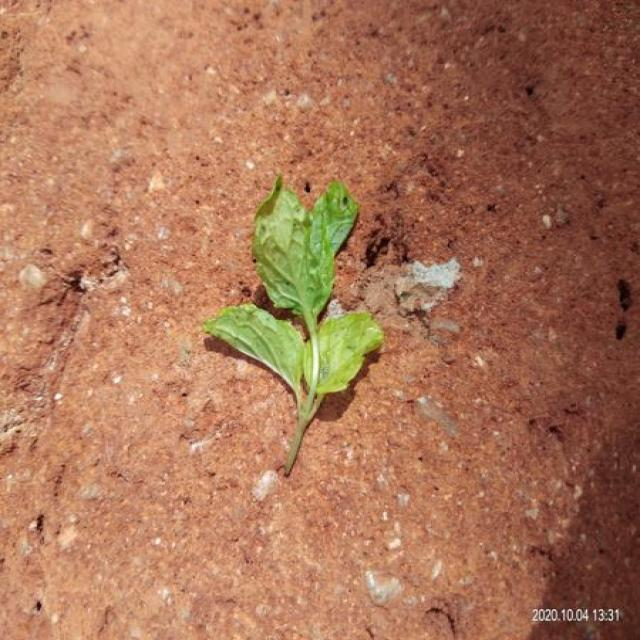mint: (205, 176, 383, 473)
